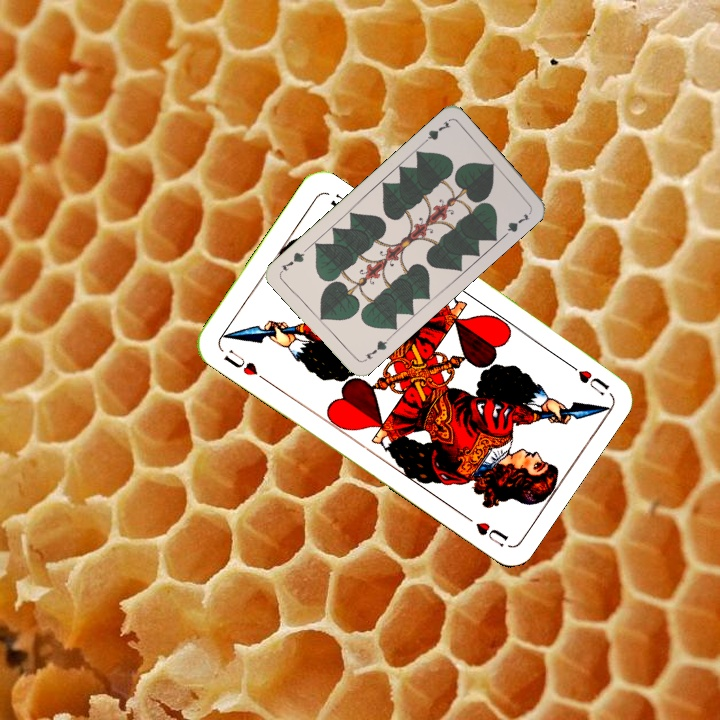G7: (418, 116, 454, 148), (359, 334, 392, 365)
HU: (560, 356, 612, 398), (219, 345, 269, 384)
